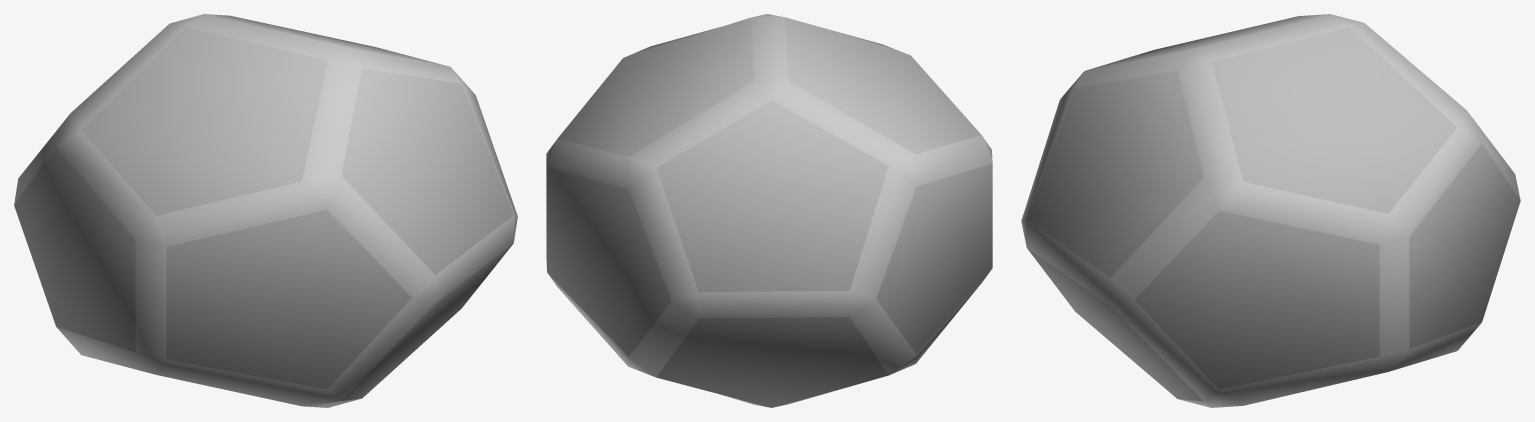
File: stone_1.fbx
The picture shows the model from 3 angles, left to right: view 1: azimuth 30°, elevation 25°; view 2: azimuth 150°, elevation 25°; view 3: azimuth 270°, elevation 25°; orthographic projection. The views are drawn at different scales.
Visible parts, largest first — view 1: stone_1; view 2: stone_1; view 3: stone_1.
Part boxes in pixels (box(x1,y1,x2,y2)): stone_1: box(14, 14, 517, 407); stone_1: box(546, 14, 992, 407); stone_1: box(1021, 14, 1520, 407).
Bounding box in the file's own units: 45.73 × 41.05 × 53.75.
Materials: 1 (1 with a texture image).
